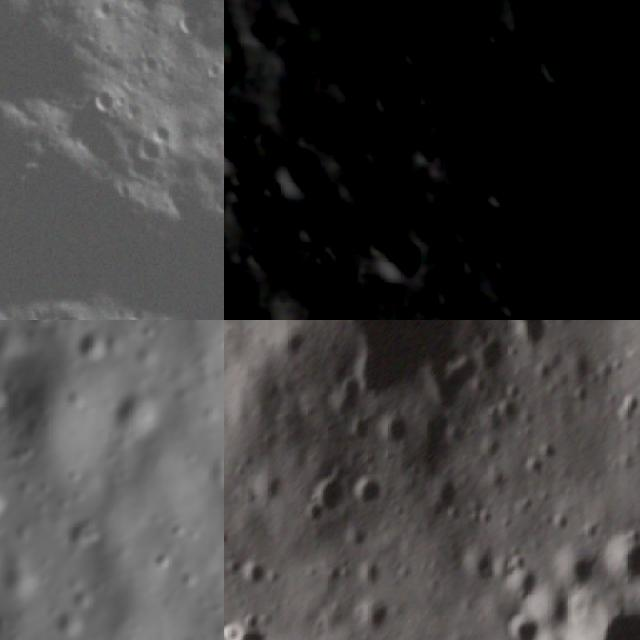crater: (338, 320, 482, 410), (353, 215, 440, 302), (503, 0, 620, 53), (266, 139, 344, 217), (556, 572, 640, 640), (526, 24, 604, 96), (548, 536, 612, 602), (224, 108, 269, 191), (301, 464, 357, 528), (599, 525, 640, 596), (497, 557, 550, 609), (528, 104, 584, 152), (110, 392, 158, 442), (478, 176, 526, 222), (362, 76, 407, 124), (498, 602, 553, 640), (350, 461, 390, 513), (130, 128, 172, 168), (322, 266, 364, 306), (226, 613, 286, 640), (538, 276, 574, 314), (382, 413, 416, 451), (492, 290, 533, 320), (79, 331, 112, 362), (344, 415, 374, 448), (310, 244, 340, 275), (243, 247, 270, 278), (148, 546, 178, 572), (95, 84, 123, 111), (298, 218, 324, 247)
